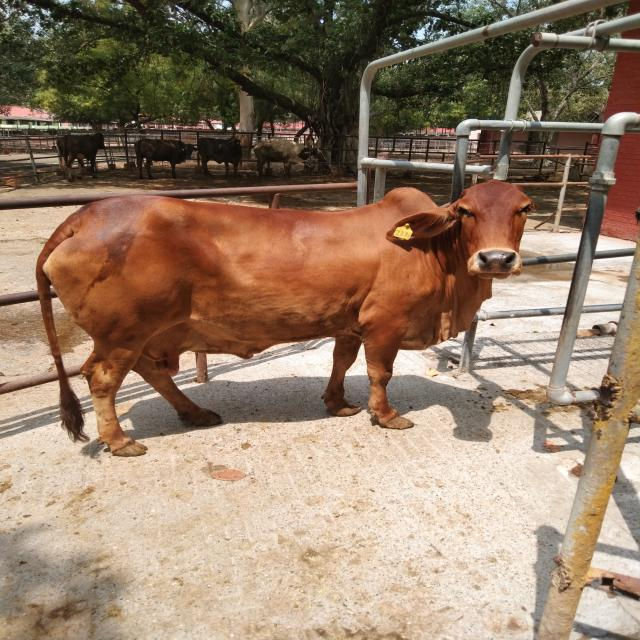1: (362, 185, 447, 206)
Hoof: (191, 408, 223, 427), (111, 441, 148, 457), (378, 415, 414, 429), (326, 402, 361, 416)
